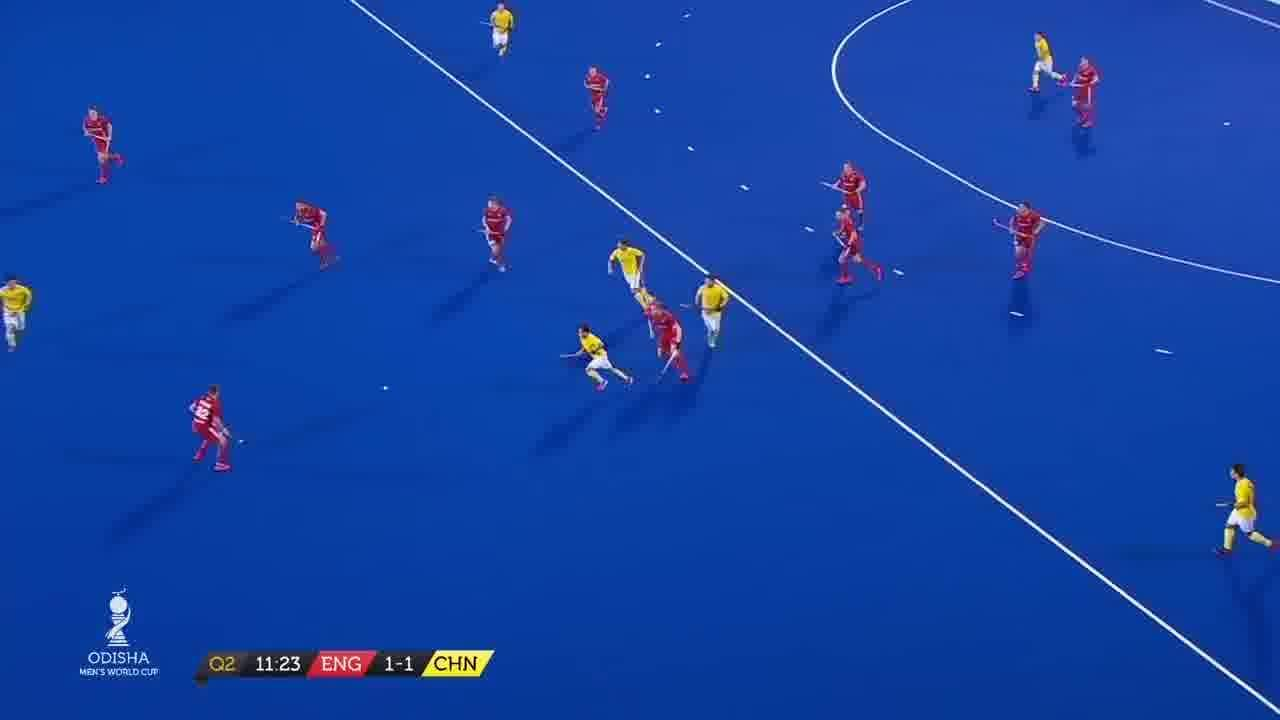ball: (378, 380, 393, 395)
